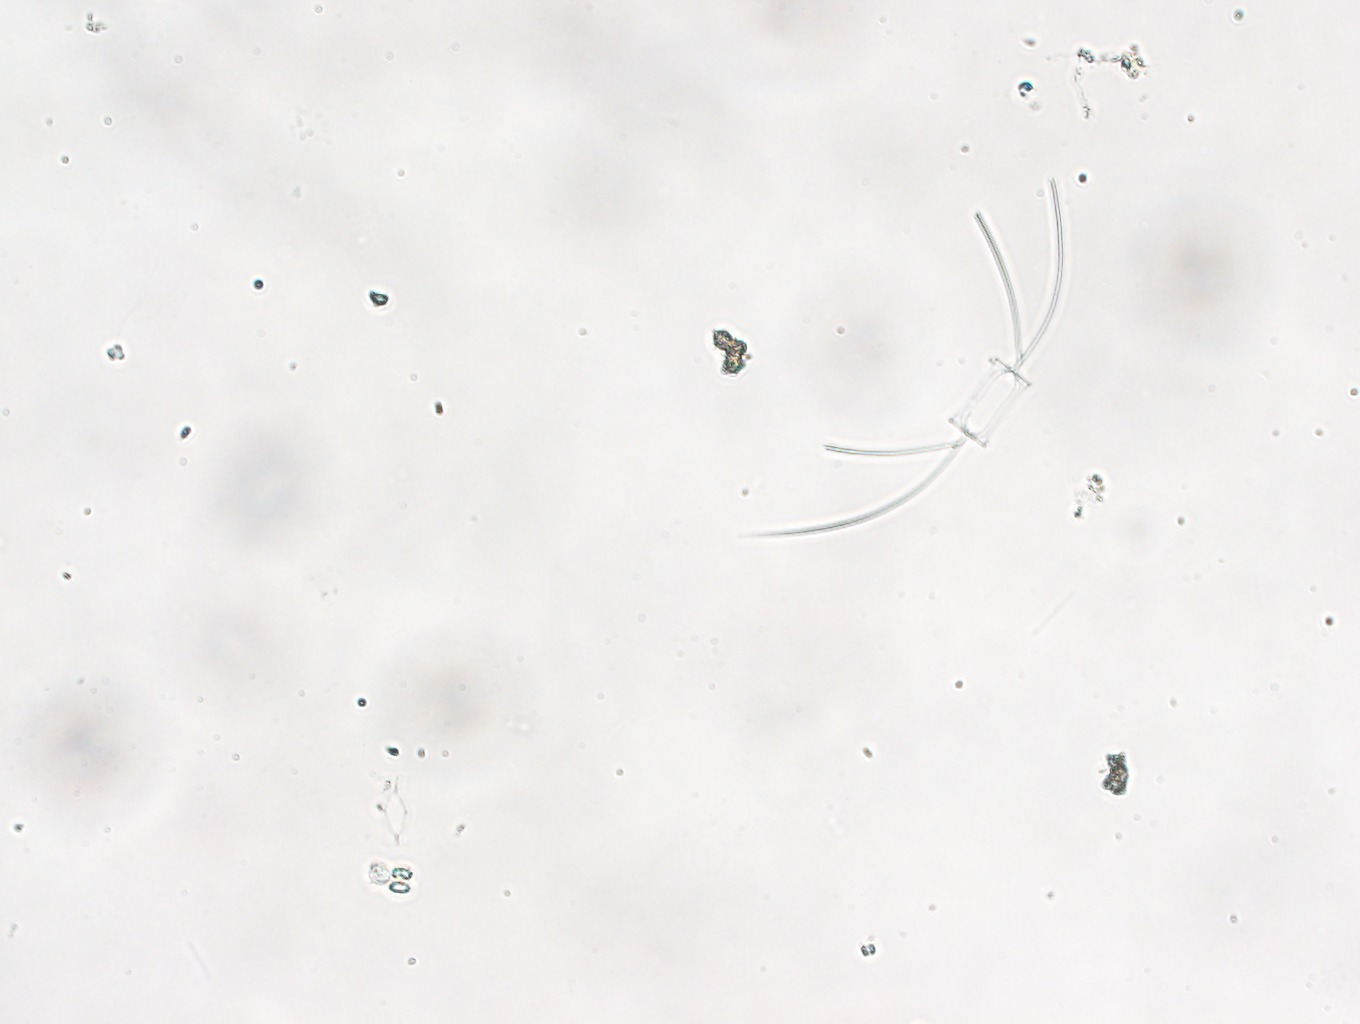chaetoceros: (748, 179, 1064, 537)
